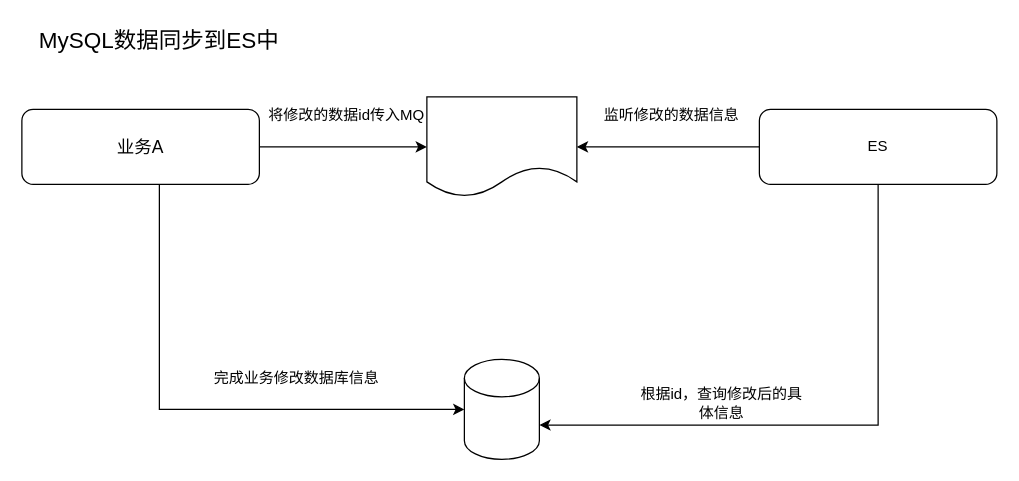
The diagram is 1019 pixels wide and 481 high, and some of its shapes have lost their labels. Here are the shapes that lost their labels. From the top down, the centre of each, then its label:
At [501,146]: "RocketMQ".
At [501,408]: "MySQL".
